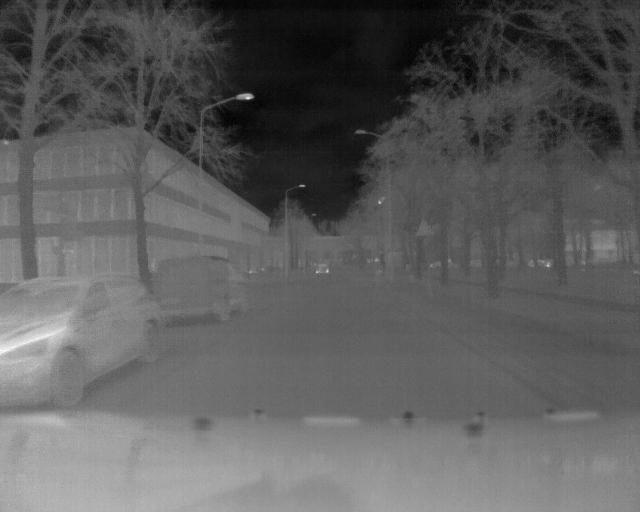car: (1, 271, 169, 411), (151, 255, 249, 320)
